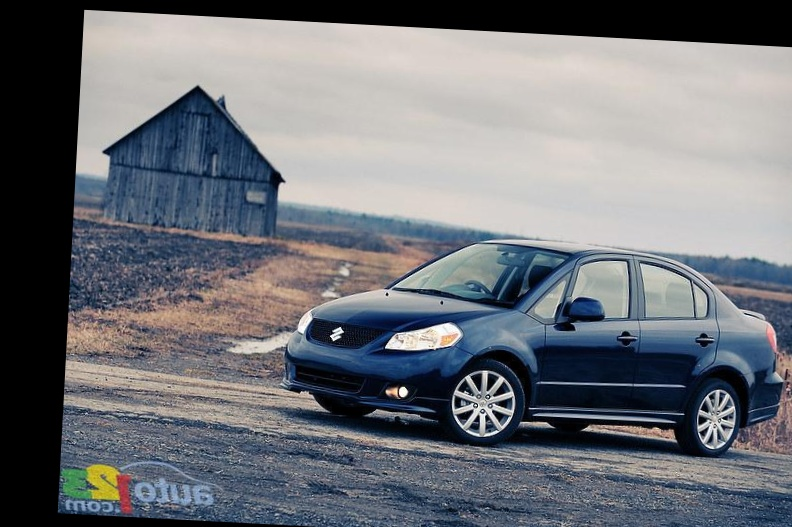car: (267, 202, 792, 488)
